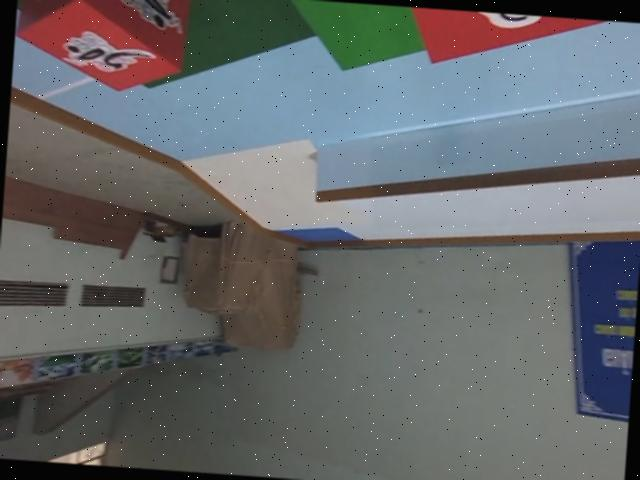R1: (10, 0, 192, 98)
